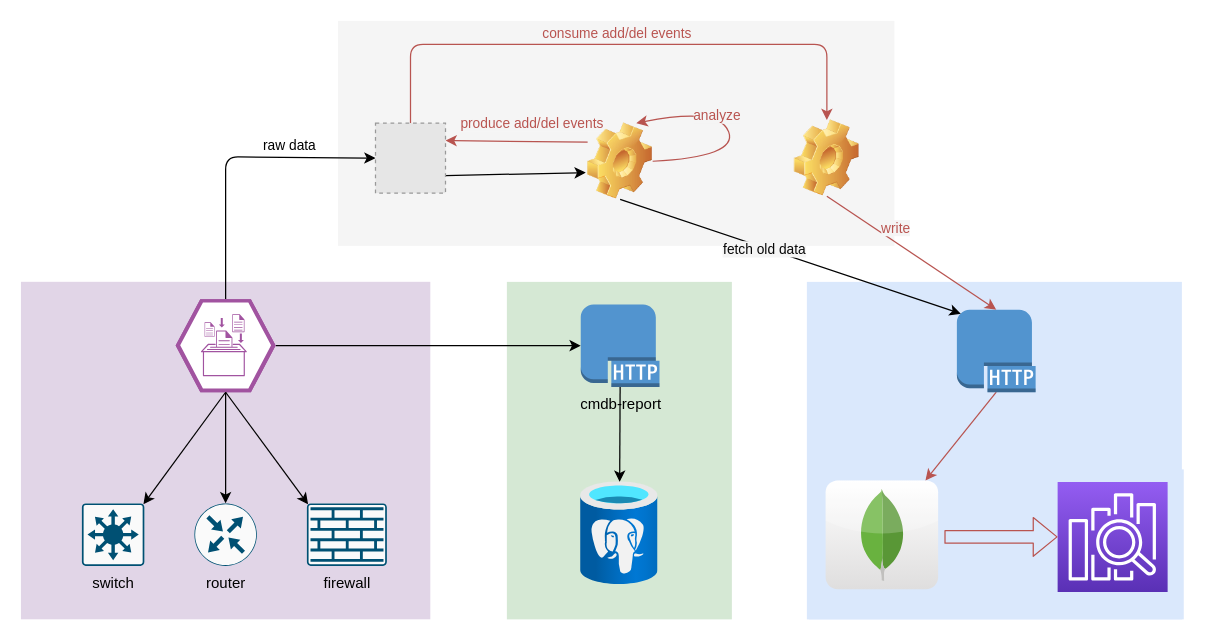
This 1206x641 diagram has some shape labels left out. Grey dashed boxes stand in for pictures. The shapes that lost their labels are listed below. From the top down, each one's box as (x1, y1, x2, y2) in pixels, then its label:
(174, 298, 276, 392): sealion
(956, 308, 1036, 392): ng-cmdb
